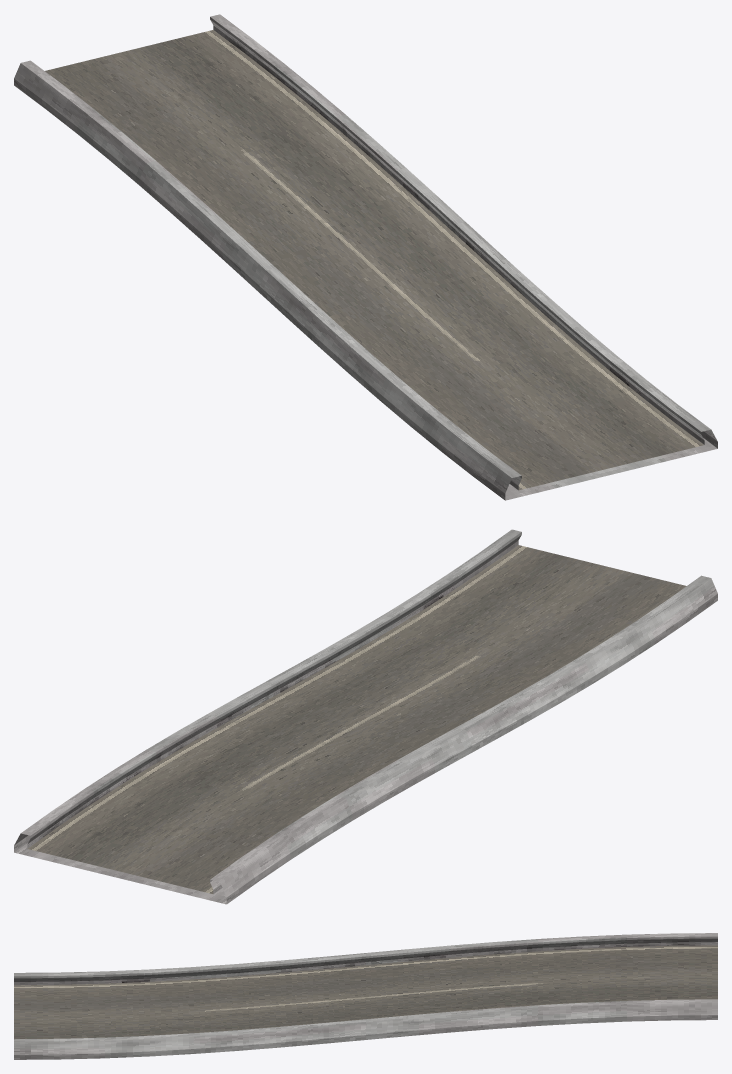
File: straight4.glb
3 views of the same model, one above another, from view 1: azimuth 30°, elevation 25°; view 2: azimuth 150°, elevation 25°; view 3: azimuth 270°, elevation 25° (orthographic). The views are drawn at different scales.
Visible parts, largest first — view 1: road-Straight-Flat-Flat-Up1-Center-Size4; view 2: road-Straight-Flat-Flat-Up1-Center-Size4; view 3: road-Straight-Flat-Flat-Up1-Center-Size4.
Boxes of the visible parts, bbox=[...] form: road-Straight-Flat-Flat-Up1-Center-Size4: bbox=[14, 14, 717, 500]; road-Straight-Flat-Flat-Up1-Center-Size4: bbox=[14, 529, 717, 904]; road-Straight-Flat-Flat-Up1-Center-Size4: bbox=[14, 933, 717, 1059].
Bounding box in the file's own units: 1 × 0.3438 × 4.
2 materials, 2 textured.
